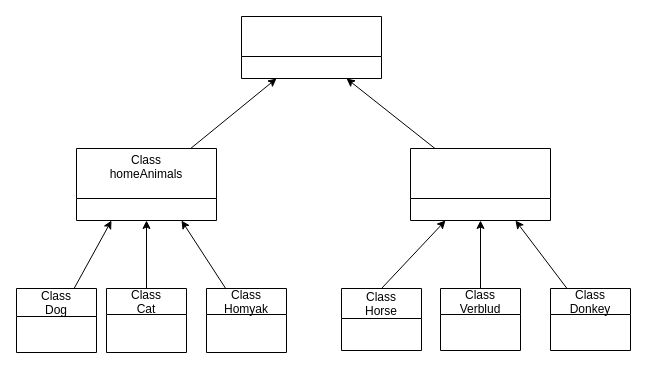
This 647x369 diagram has some shape labels left out. Each missing label, with the box of its shape:
Class HumanFriends: (240, 16, 382, 78)
Class viuchAnimals: (410, 148, 550, 220)
